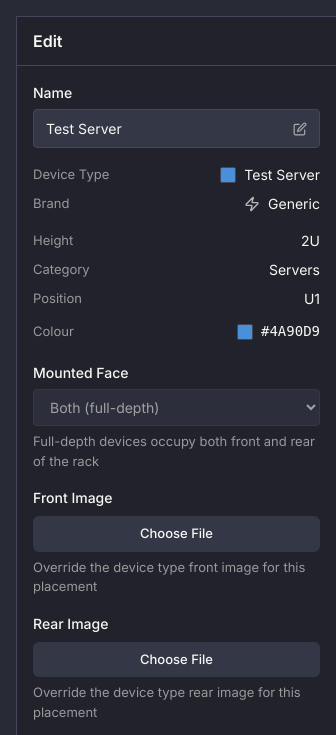
EditPanel Component › Device colour picker › toggles colour picker when colour row is clicked
The image size is (336, 735).
# Click the colour row button
Click the button with aria-label "edit device colour" at point(53, 331), box [33,317,320,346]
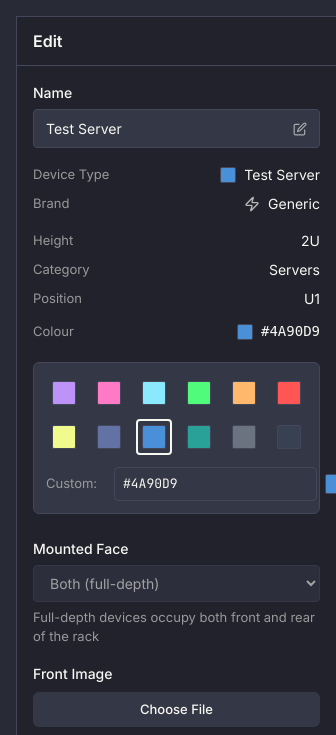
Expected: the field named "custom hex colour" is shown, [114,467,317,500]
